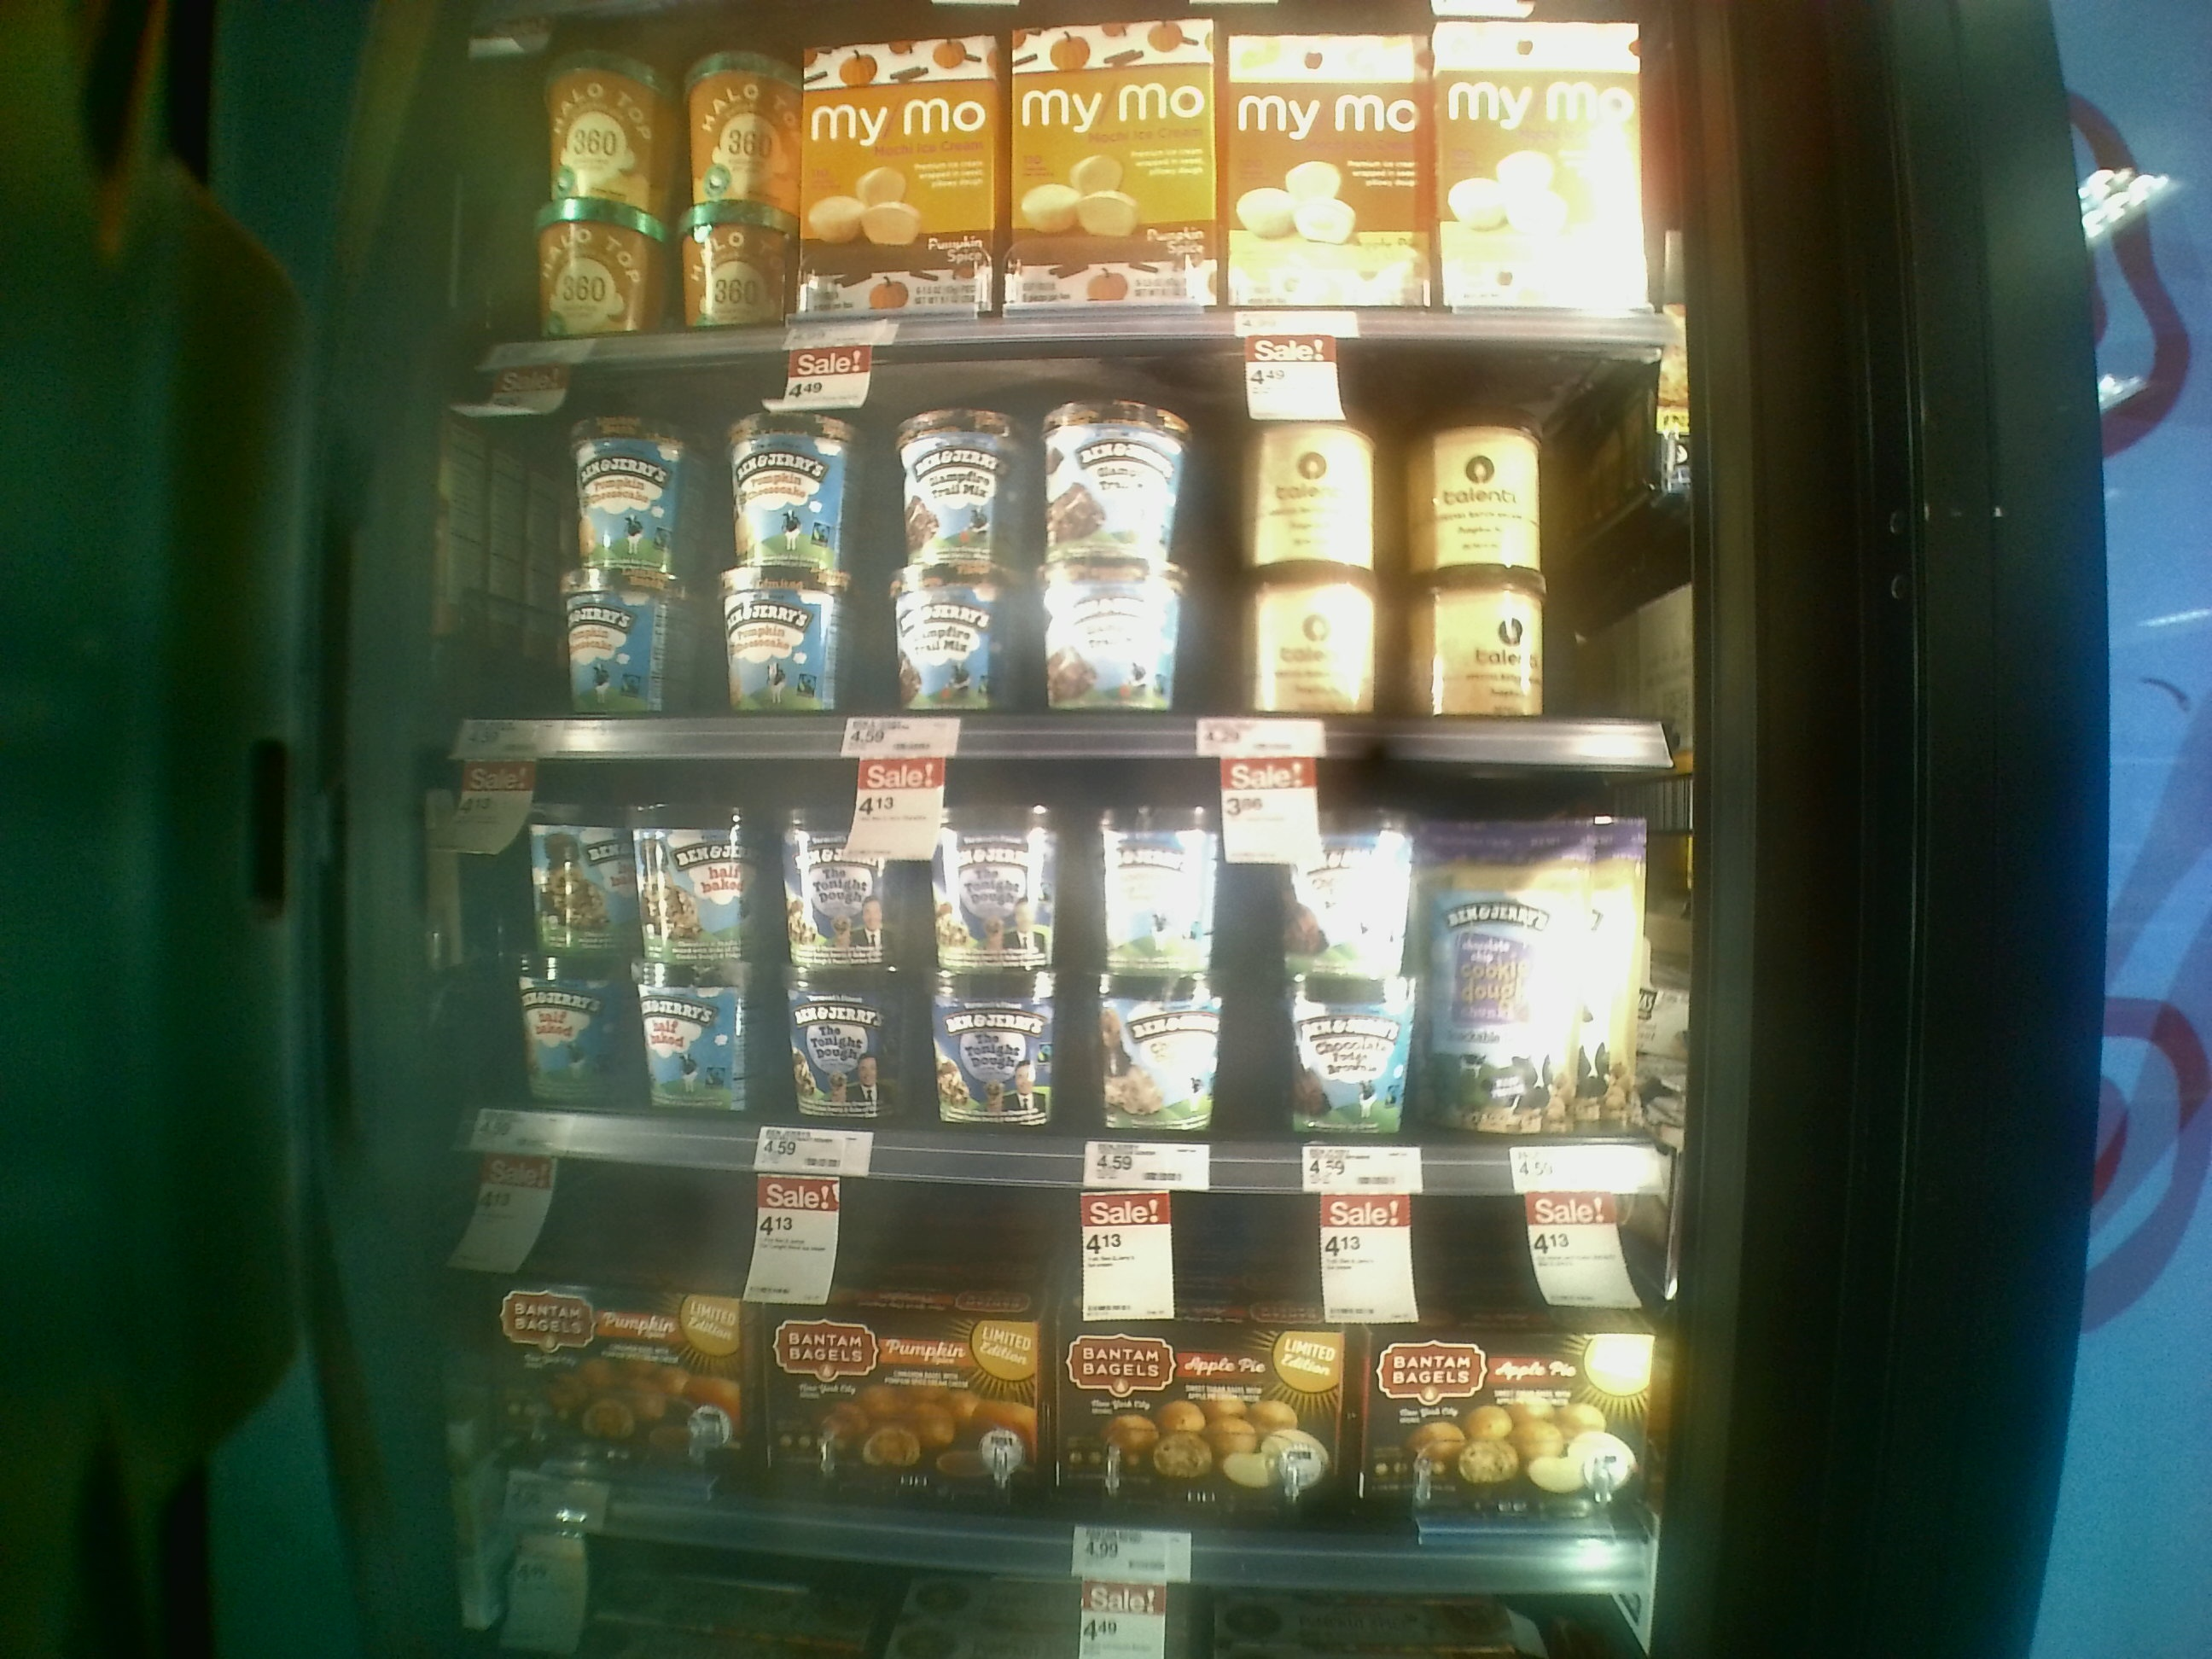shelf: (392, 737, 1677, 1202), (387, 1134, 1658, 1601), (409, 326, 1684, 774)
